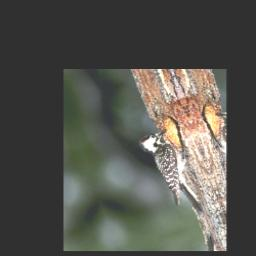Woodpecker: (134, 123, 211, 224)
